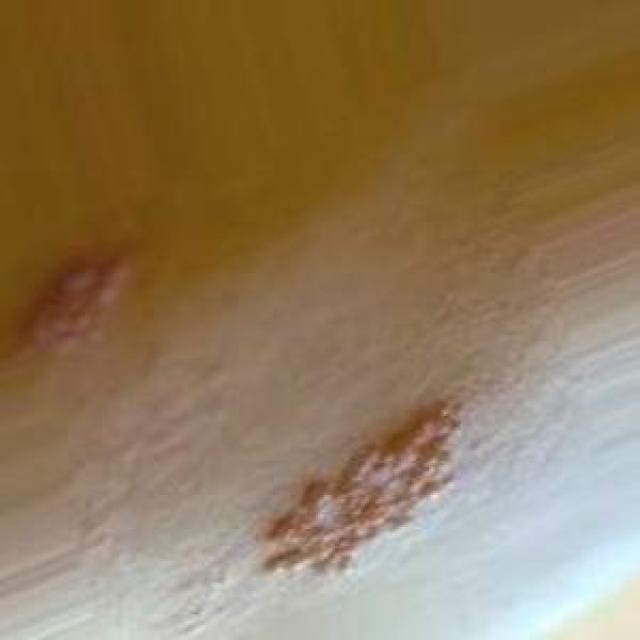Shingles: (257, 403, 467, 583), (11, 258, 133, 358)
